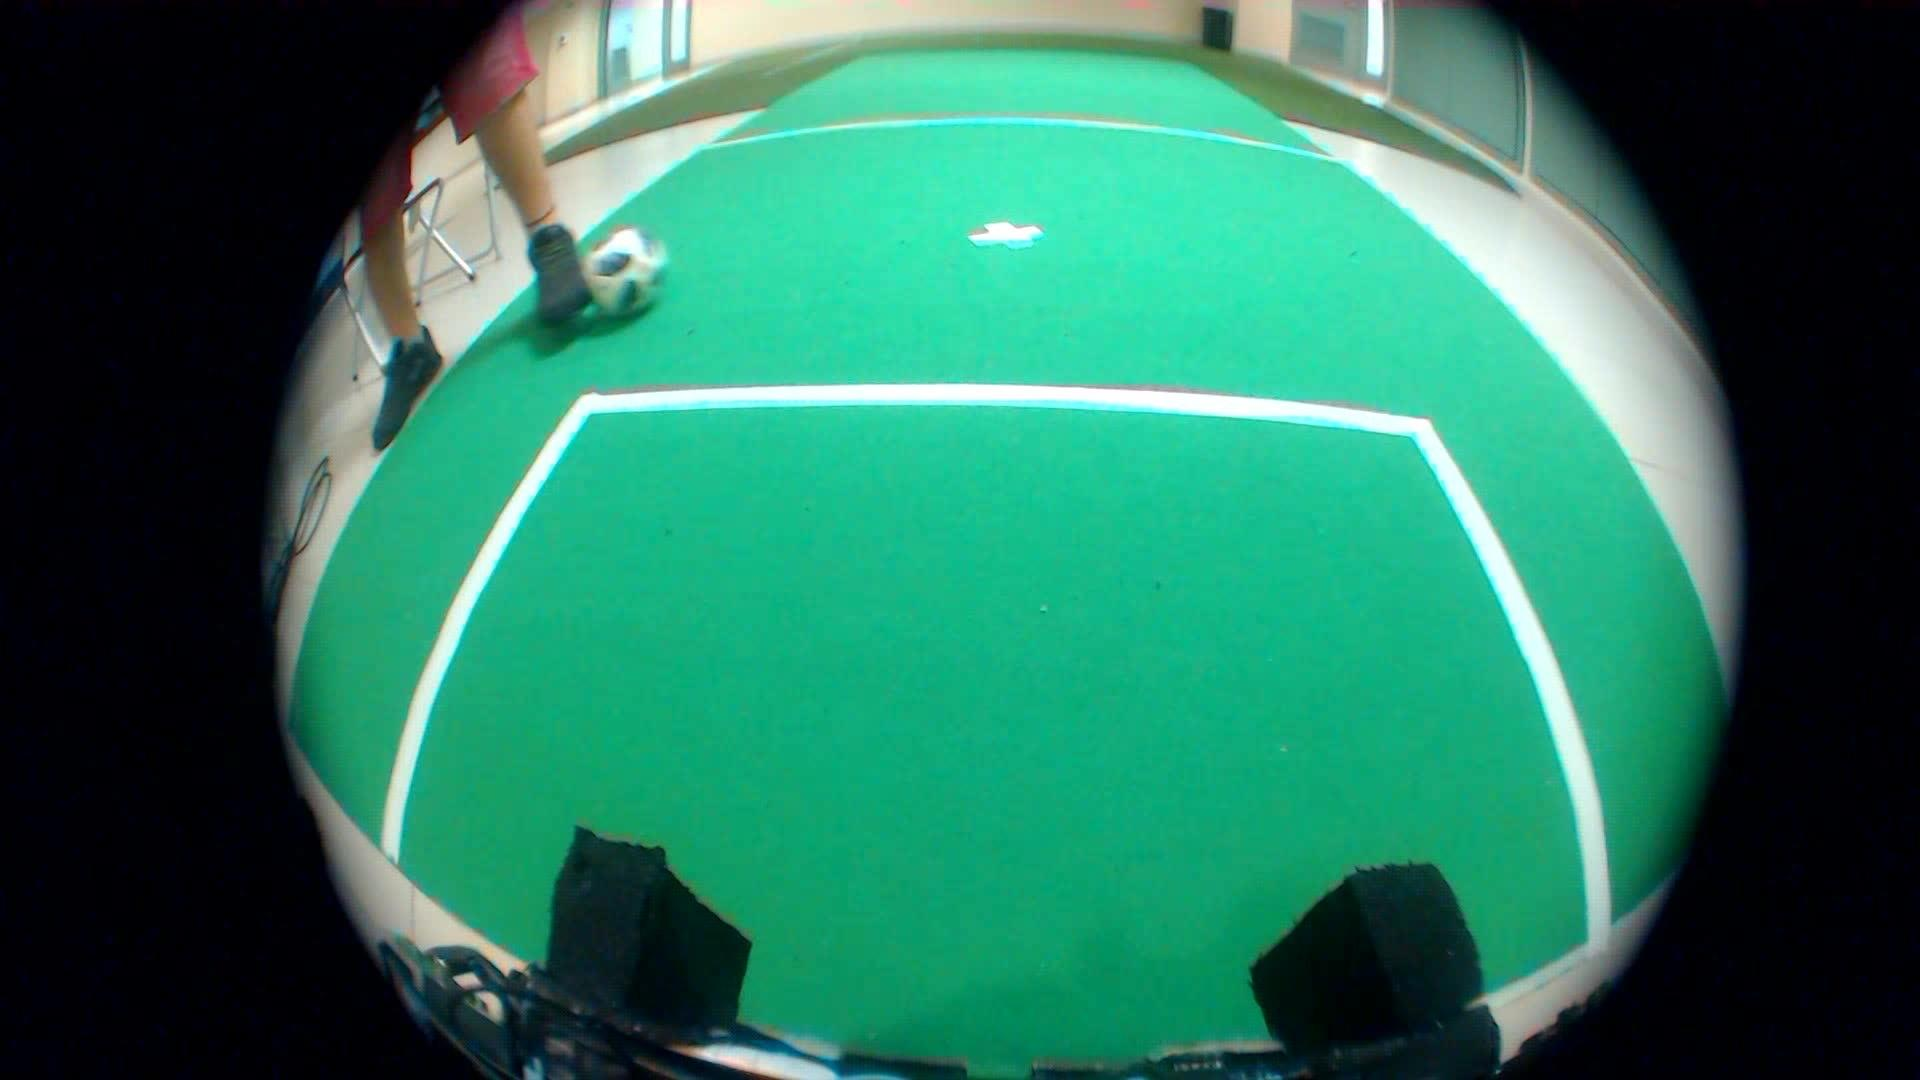ball: (562, 222, 669, 327)
